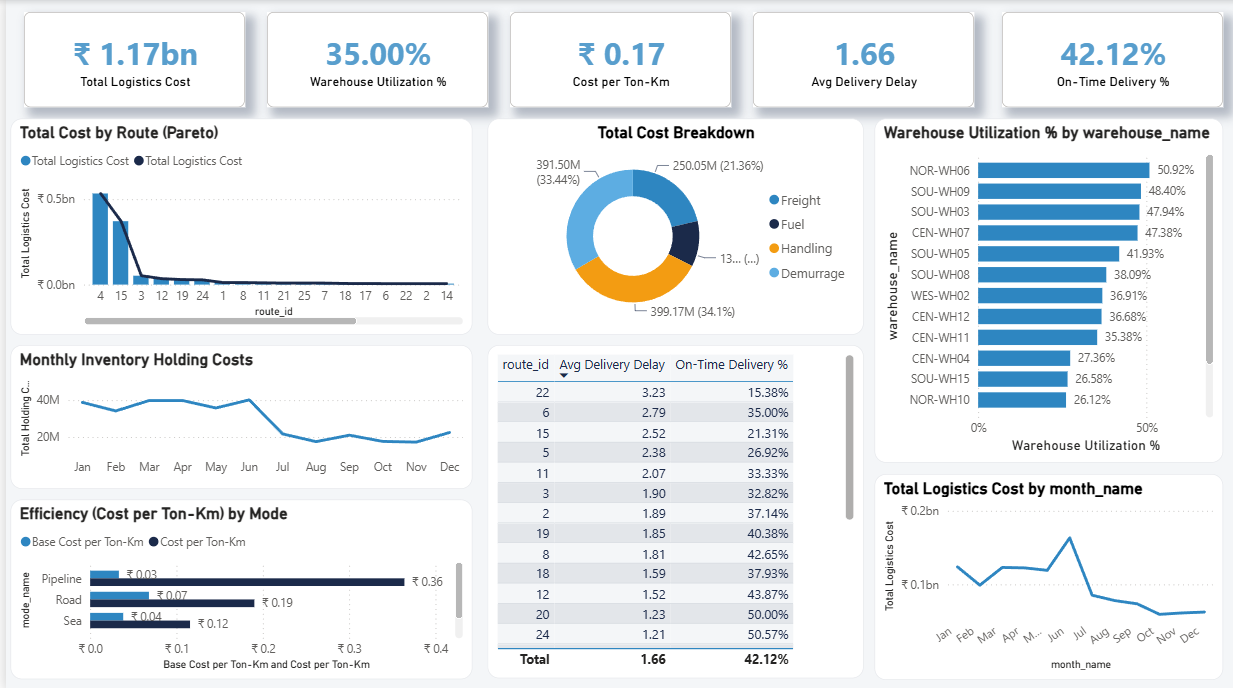

What the dashboard file says about the page in this screenshot:
{"tool":"powerbi","page":{"name":"abc_logistics_analysis_dashboard","canvas":[1280,720],"ordinal":0},"visuals":[{"type":"cardVisual","fields":{"Data":["Fact_Shipments.Total Logistics Cost"]},"box":[18.1,12.8,230.4,99.2],"z":0},{"type":"cardVisual","fields":{"Data":["Fact_Shipments.On-Time Delivery %"]},"box":[1038.4,12.8,230.4,99.2],"z":10},{"type":"cardVisual","fields":{"Data":["Fact_Inventory_Snapshot.Warehouse Utilization %"]},"box":[271.7,12.8,230.4,99.2],"z":11},{"type":"cardVisual","fields":{"Data":["Fact_Shipments.Avg Delivery Delay"]},"box":[778.9,12.8,230.4,99.2],"z":12},{"type":"cardVisual","fields":{"Data":["Fact_Shipments.Cost per Ton-Km"]},"box":[525.3,12.8,230.4,99.2],"z":13},{"type":"lineStackedColumnComboChart","title":"Total Cost by Route (Pareto)","fields":{"Category":["Dim_Route.route_id"],"Y":["Fact_Shipments.Total Logistics Cost"],"Y2":["Fact_Shipments.Total Logistics Cost"]},"box":[4.7,123.5,481.4,225.1],"z":14},{"type":"donutChart","title":"Total Cost Breakdown","fields":{"Y":["Sum(Fact_Shipments.freight_cost_inr)","Sum(Fact_Shipments.fuel_cost_inr)","Sum(Fact_Shipments.handling_cost_inr)","Sum(Fact_Shipments.demurrage_cost_inr)"]},"box":[502.4,123.2,392,225.6],"z":15},{"type":"tableEx","fields":{"Values":["Dim_Route.route_id","Fact_Shipments.Avg Delivery Delay","Fact_Shipments.On-Time Delivery %"]},"box":[502.4,360,392,347.2],"z":16},{"type":"lineChart","fields":{"Y":["Fact_Shipments.Total Logistics Cost"],"Category":["Dim_Date.month_name"]},"box":[905.6,494.4,363.2,214.4],"z":17},{"type":"clusteredBarChart","title":"Efficiency (Cost per Ton-Km) by Mode","fields":{"Category":["Dim_TransportMode.mode_name"],"Y":["Fact_Shipments.Base Cost per Ton-Km","Fact_Shipments.Cost per Ton-Km"]},"box":[4.7,520.5,481.4,187.6],"z":18},{"type":"clusteredBarChart","fields":{"Category":["Dim_Warehouse.warehouse_name"],"Y":["Fact_Inventory_Snapshot.Warehouse Utilization %"]},"box":[905.6,123.2,363.2,358.4],"z":19},{"type":"lineChart","title":"Monthly Inventory Holding Costs","fields":{"Category":["Dim_Date.month_name"],"Y":["Fact_Inventory_Snapshot.Total Holding Cost"]},"box":[4.7,359.5,481.4,150],"z":20}]}

Visuals, with their boxes in screenshot pixels (x1, y1, x2, y2), scaled from the page's 1280x720 canvas onto the 1233x688 screenshot:
cardVisual - Fact_Shipments.Total Logistics Cost: <bbox>17, 12, 239, 107</bbox>
cardVisual - Fact_Shipments.On-Time Delivery %: <bbox>1000, 12, 1222, 107</bbox>
cardVisual - Fact_Inventory_Snapshot.Warehouse Utilization %: <bbox>262, 12, 484, 107</bbox>
cardVisual - Fact_Shipments.Avg Delivery Delay: <bbox>750, 12, 972, 107</bbox>
cardVisual - Fact_Shipments.Cost per Ton-Km: <bbox>506, 12, 728, 107</bbox>
"Total Cost by Route (Pareto)" lineStackedColumnComboChart: <bbox>5, 118, 468, 333</bbox>
"Total Cost Breakdown" donutChart: <bbox>484, 118, 862, 333</bbox>
tableEx - Dim_Route.route_id x Fact_Shipments.Avg Delivery Delay: <bbox>484, 344, 862, 676</bbox>
lineChart - Fact_Shipments.Total Logistics Cost x Dim_Date.month_name: <bbox>872, 472, 1222, 677</bbox>
"Efficiency (Cost per Ton-Km) by Mode" clusteredBarChart: <bbox>5, 497, 468, 677</bbox>
clusteredBarChart - Dim_Warehouse.warehouse_name x Fact_Inventory_Snapshot.Warehouse Utilization %: <bbox>872, 118, 1222, 460</bbox>
"Monthly Inventory Holding Costs" lineChart: <bbox>5, 344, 468, 487</bbox>
